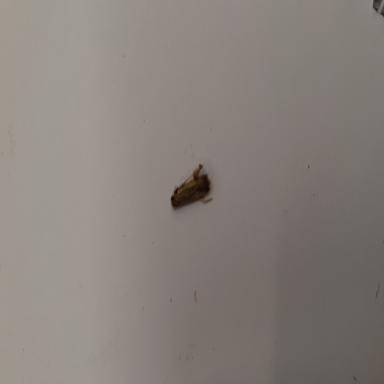pbw: (168, 156, 222, 214)
